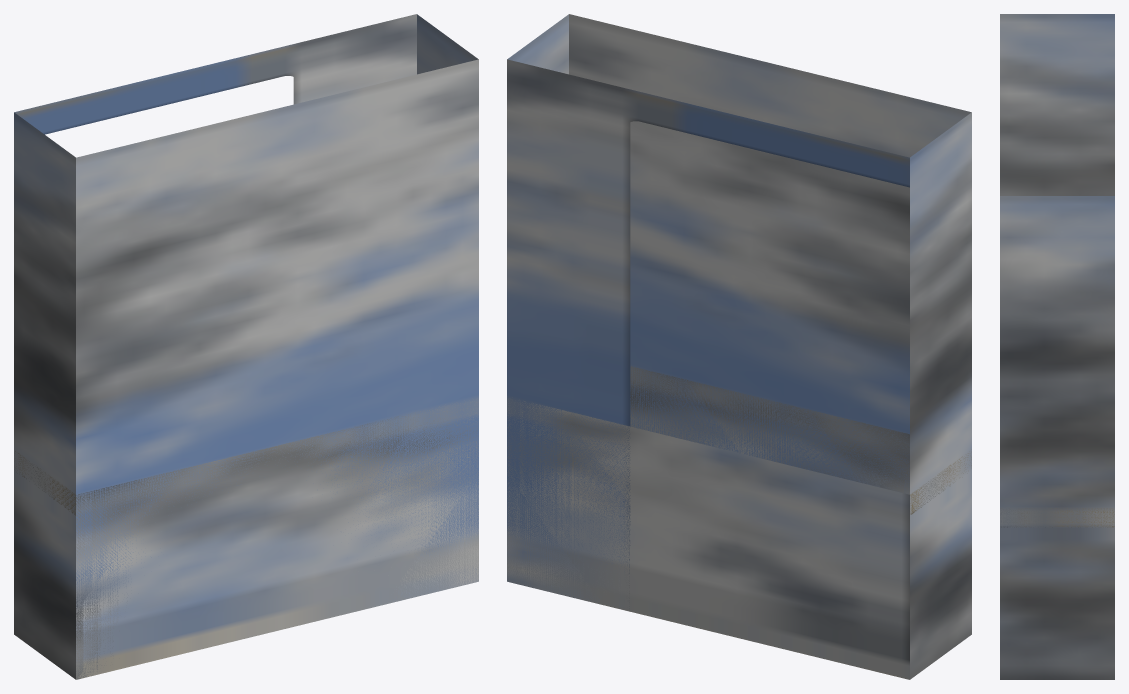
File: section-2.obj
The picture shows the model from 3 angles, left to right: view 1: azimuth 30°, elevation 25°; view 2: azimuth 150°, elevation 25°; view 3: azimuth 270°, elevation 25°; orthographic projection. The views are drawn at different scales.
Size of the model in its own units: 0.75 by 0.9296 by 0.2.
